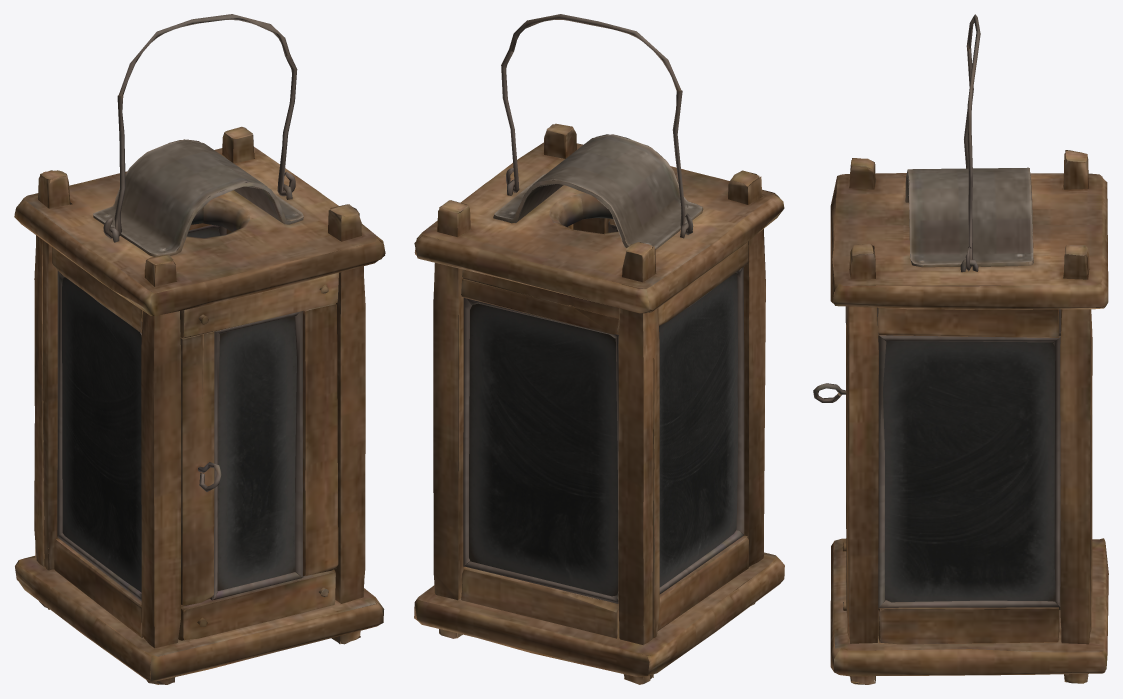
Rendered from prop_lantern.glb.
The picture shows the model from 3 angles, left to right: view 1: azimuth 30°, elevation 25°; view 2: azimuth 150°, elevation 25°; view 3: azimuth 270°, elevation 25°; orthographic projection.
Parts seen in each view (by area): view 1: wooden_lantern_01; view 2: wooden_lantern_01; view 3: wooden_lantern_01.
Boxes of the visible parts, box(x1,y1,x2,y2) form: wooden_lantern_01: box(14, 14, 385, 684); wooden_lantern_01: box(414, 14, 784, 684); wooden_lantern_01: box(813, 14, 1108, 684).
Size of the model in its own units: 0.1506 by 0.36 by 0.1597.
2 materials, 2 textured.
